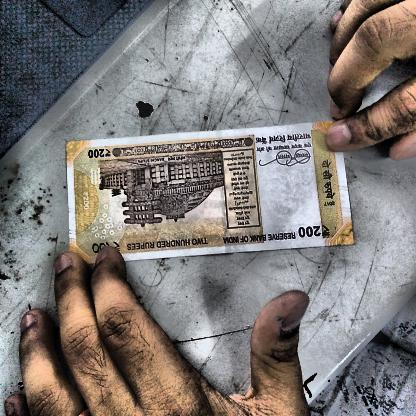Rs200: (295, 221, 334, 243), (85, 146, 116, 162)
